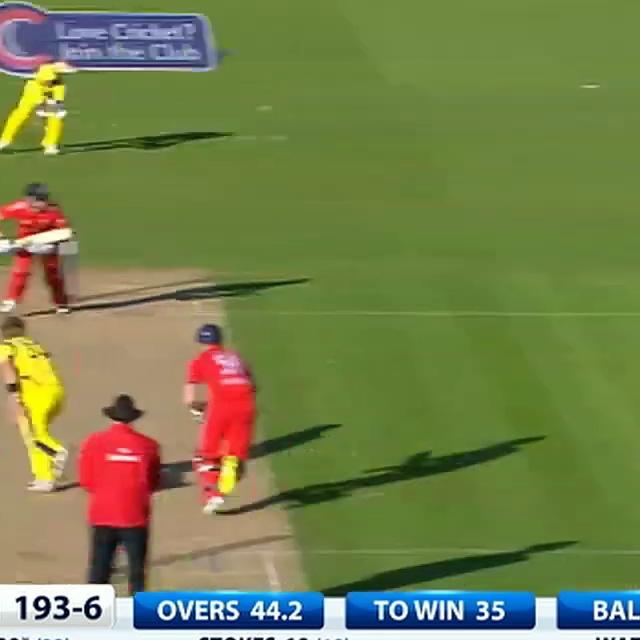umpire: (70, 388, 172, 596)
